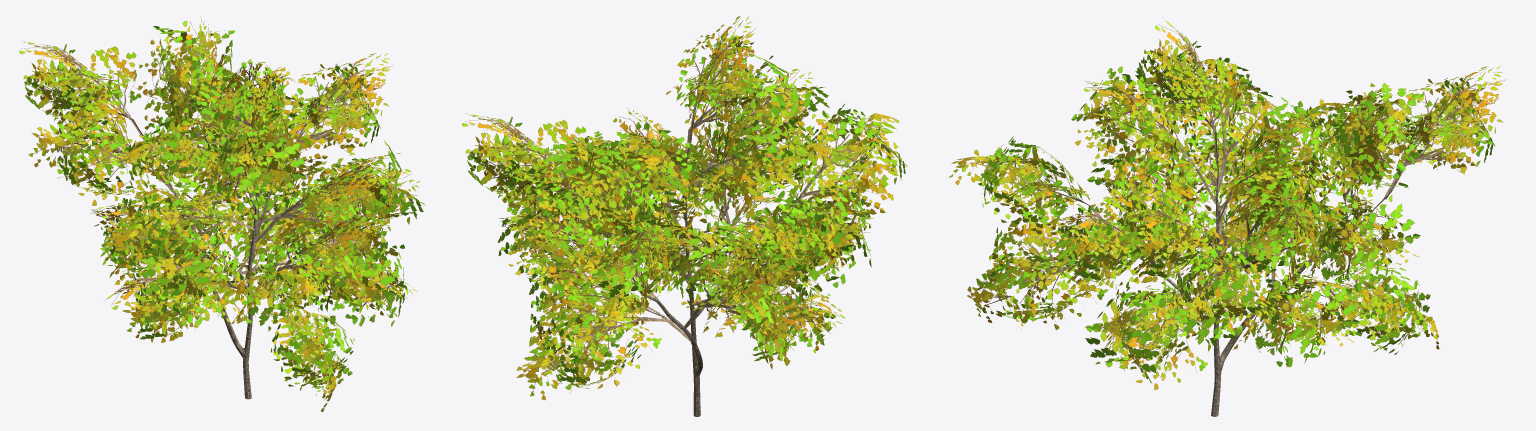
The picture shows the model from 3 angles, left to right: view 1: azimuth 30°, elevation 25°; view 2: azimuth 150°, elevation 25°; view 3: azimuth 270°, elevation 25°; orthographic projection. The views are drawn at different scales.
Parts seen in each view (by area): view 1: AM113_031_Tilia; view 2: AM113_031_Tilia; view 3: AM113_031_Tilia.
Boxes of the visible parts, x1,y1,x2,y2 form: AM113_031_Tilia: (19, 16, 425, 412); AM113_031_Tilia: (462, 16, 907, 416); AM113_031_Tilia: (949, 17, 1505, 416).
Size of the model in its own units: 214 by 225 by 304.
